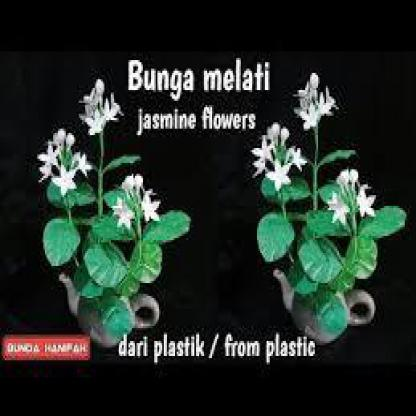Melati: (14, 115, 100, 209), (287, 46, 337, 128), (114, 169, 167, 246), (245, 108, 300, 177), (330, 149, 372, 228), (77, 76, 122, 130)
